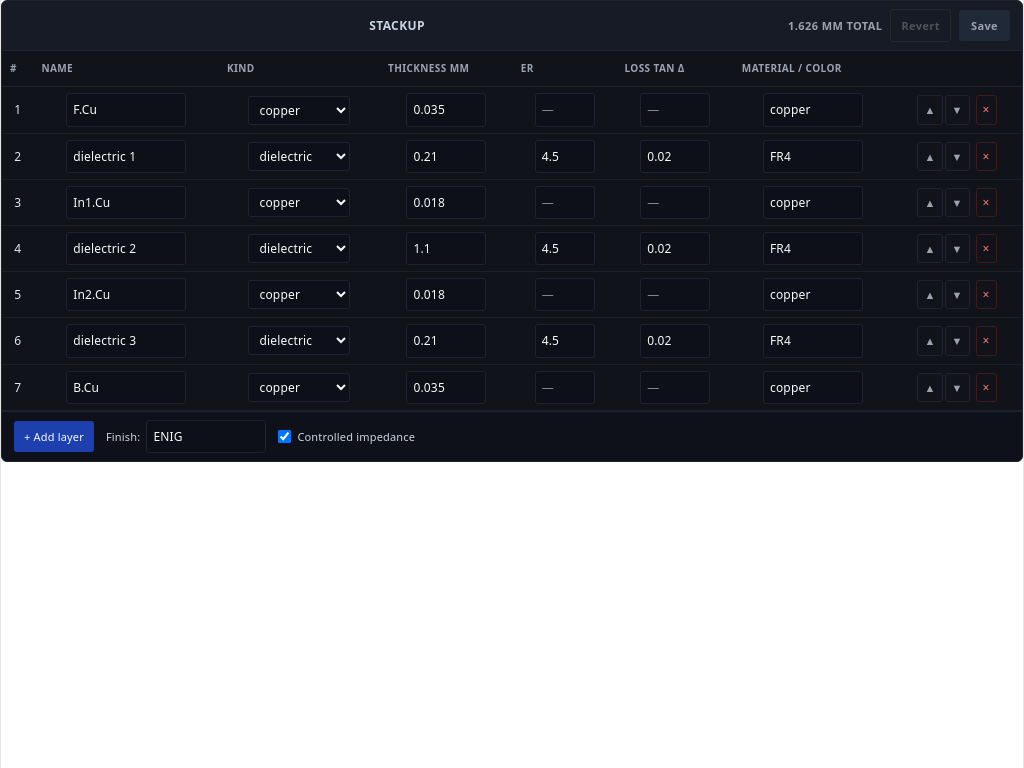
it: StackupEditor (M3-T-01) › Delete drops a row and renumbers
Click the 3rd button with test id "stackup-delete".
click(986, 202)  # box [976,188,997,217]
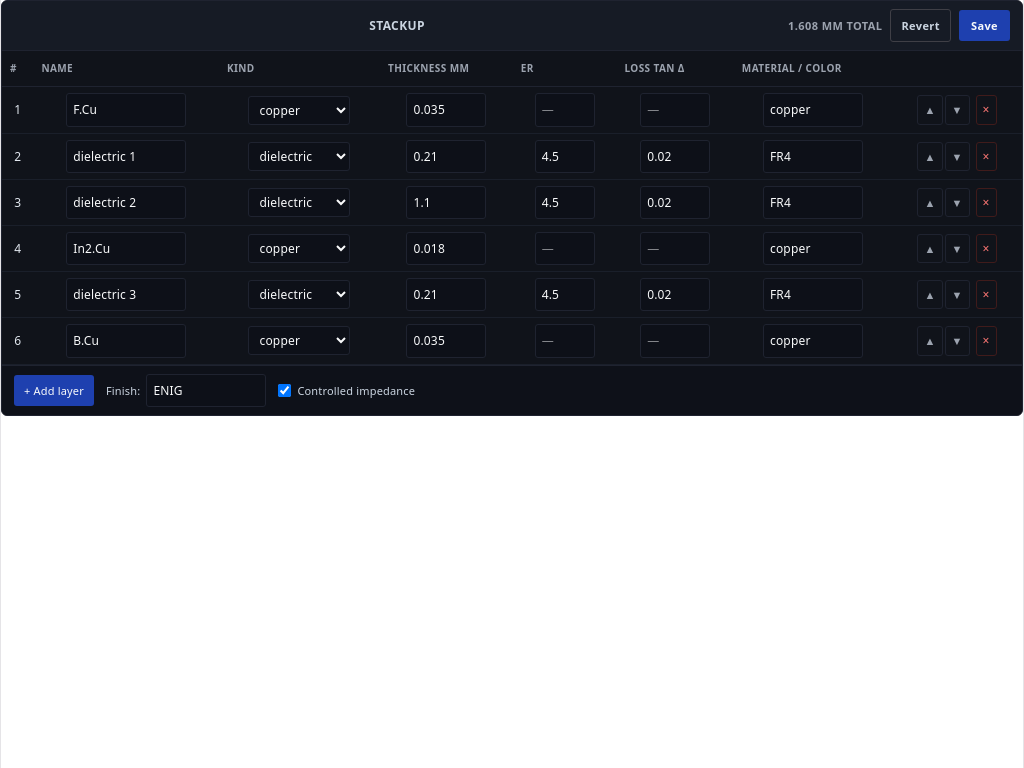
Check: the number of rows with test id "stackup-row" is 6, box [2,87,1022,133]; [2,133,1022,179]; [2,179,1022,226]; [2,226,1022,272]; [2,272,1022,318]; [2,318,1022,364]
